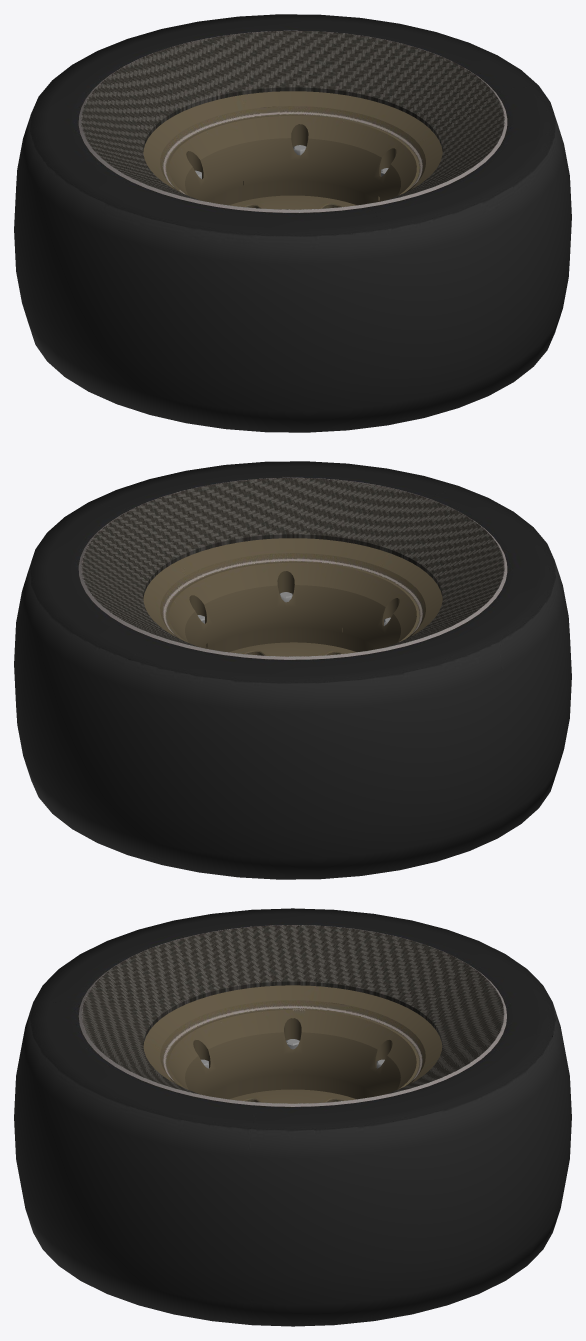
File: rl_wheel.gltf
3 views of the same model, one above another, from view 1: azimuth 30°, elevation 25°; view 2: azimuth 150°, elevation 25°; view 3: azimuth 270°, elevation 25° (orthographic).
Visible parts, largest first — view 1: rl_wheel; view 2: rl_wheel; view 3: rl_wheel.
Part boxes in pixels (box(x1,y1,x2,y2)): rl_wheel: box(14, 14, 571, 432); rl_wheel: box(14, 461, 571, 879); rl_wheel: box(14, 908, 571, 1326).
Bounding box in the file's own units: 0.7222 × 0.2872 × 0.7222.
2 materials, 2 textured.
